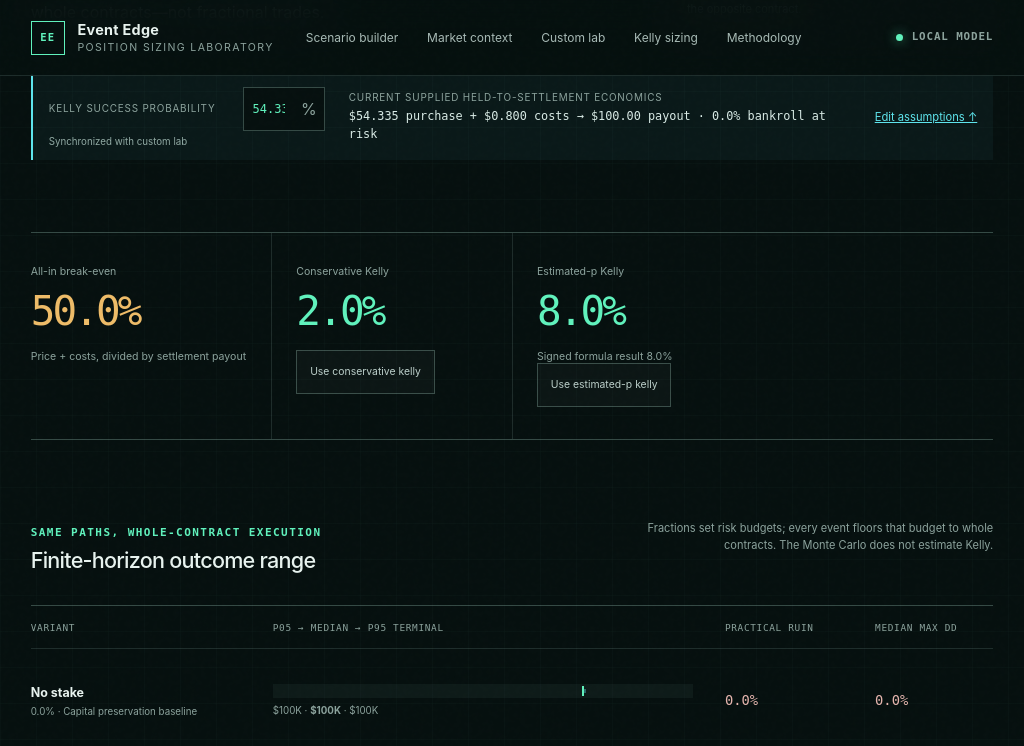
it: App › retains explicitly stale results and recovers through Retry
This screenshot has width=1024, height=746.
(page scrolled)
What coordinates should you click on to do the following:
click the button "Use estimated-p kelly"
I would click on:
 (604, 385)
Its box is [537, 363, 671, 407].
(page scrolled)
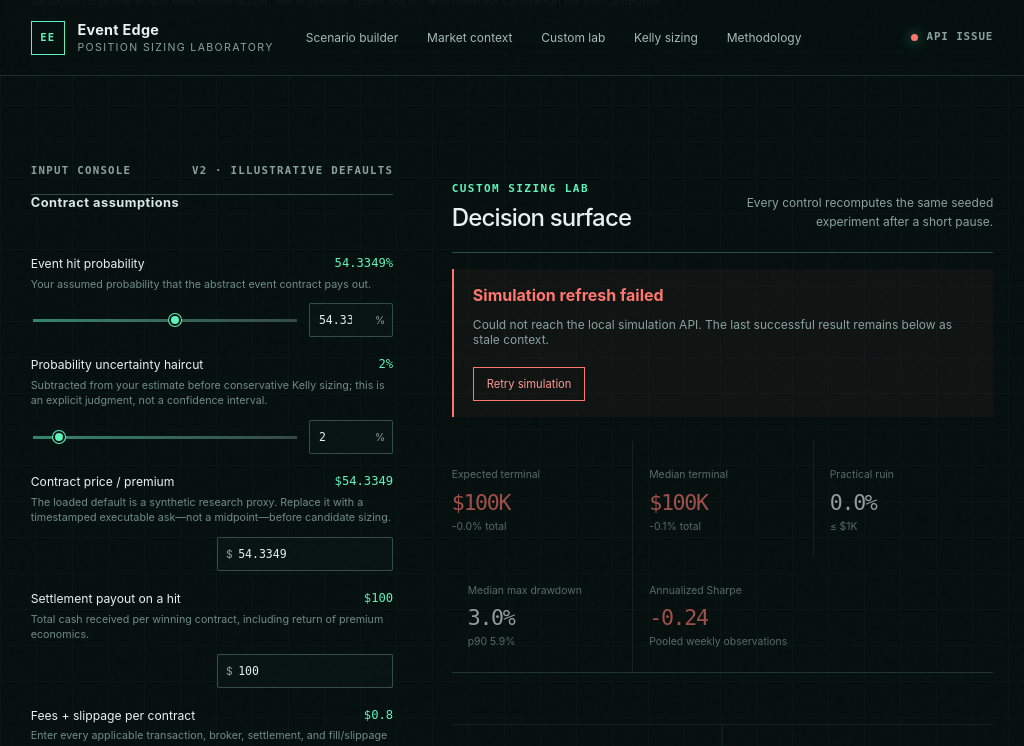
Check: the text "Expected terminal" is shown, box [452, 468, 540, 481]
Check: the text "Simulation refresh failed" is shown, box [473, 285, 664, 305]
Check: the text "last successful result remains" is shown, box [473, 317, 952, 347]
What coordinates should you click on to do the following:
click the button "Retry simulation"
I would click on:
 (529, 384)
Its box is [473, 367, 585, 401].
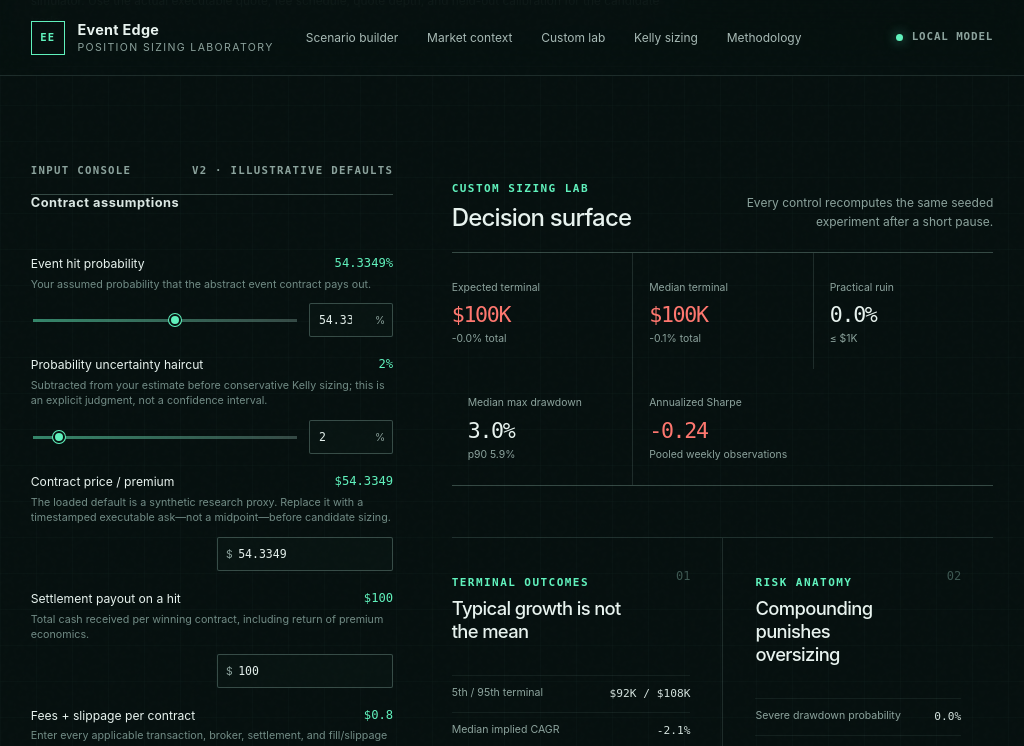
Check: the text "Simulation refresh failed" is gone
